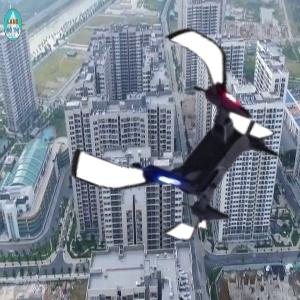drone: (79, 28, 292, 241)
